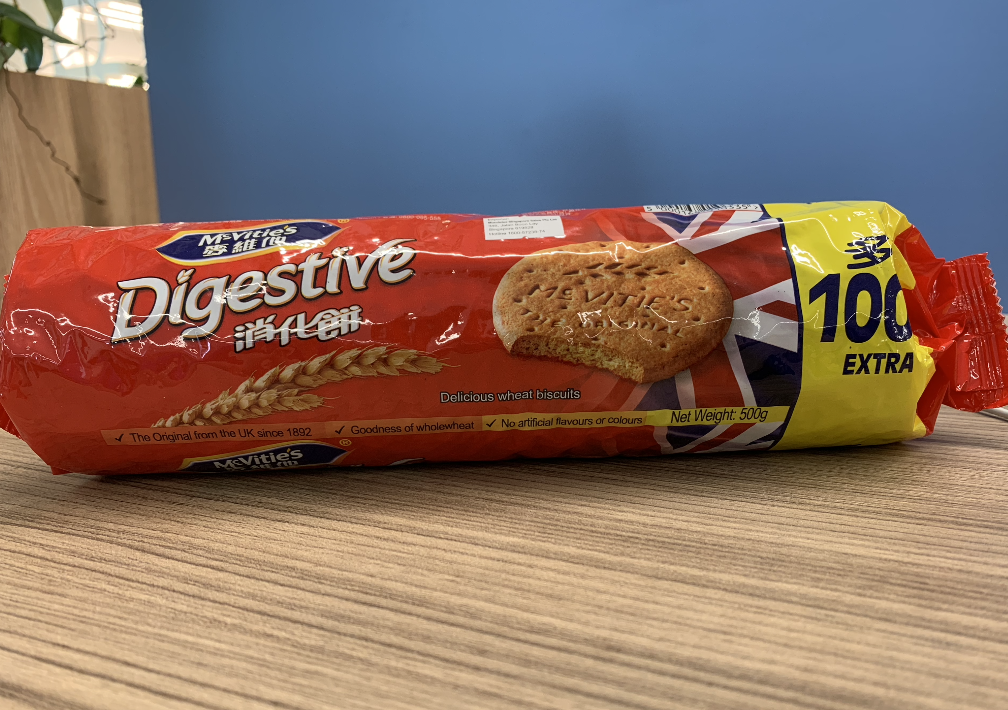cookies_450g: (115, 229, 928, 436)
